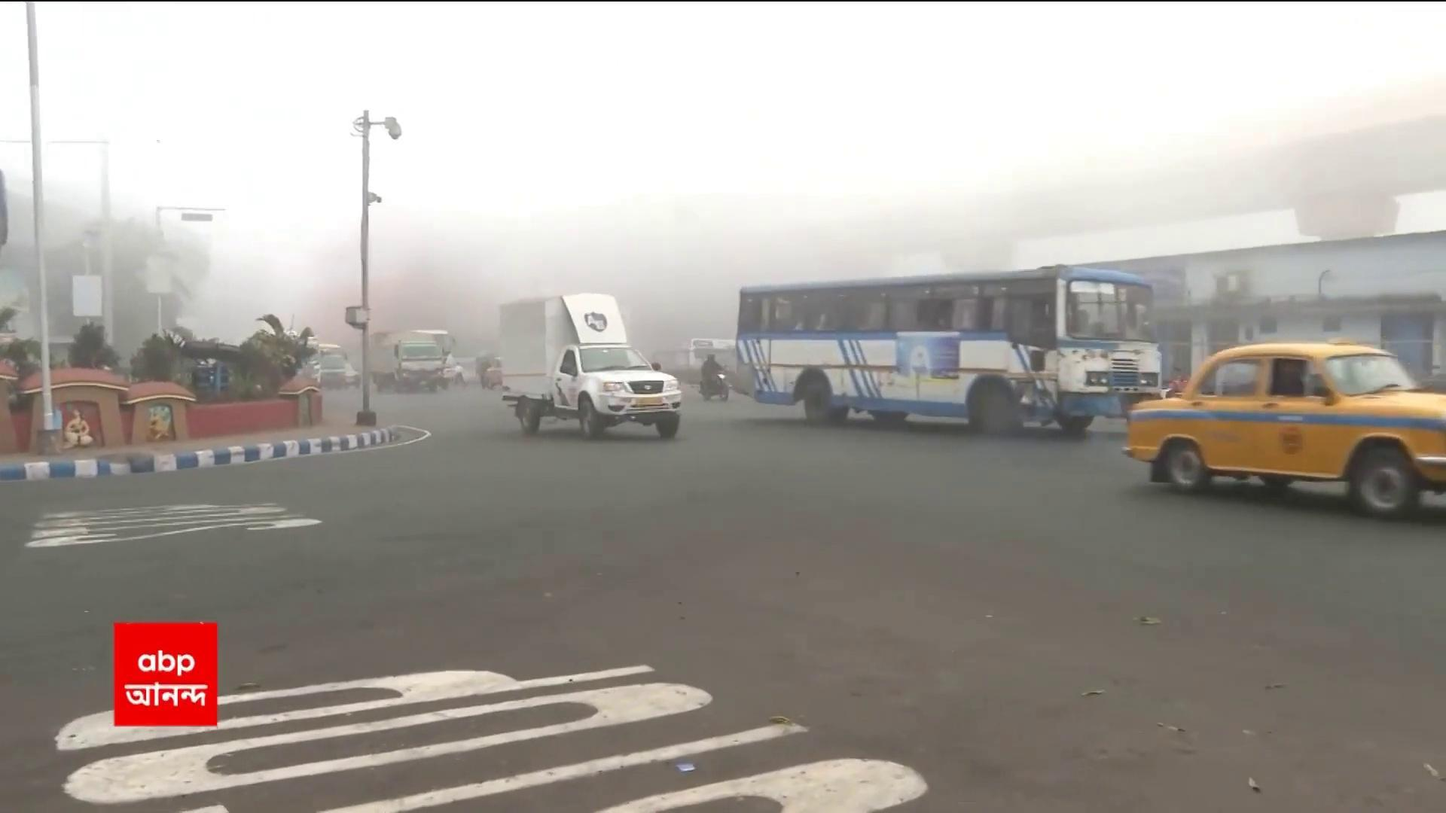Bike: (697, 351, 740, 409)
Bus: (727, 260, 1166, 451)
Car: (1120, 335, 1446, 522)
Truck: (491, 289, 685, 443), (377, 328, 454, 388)
